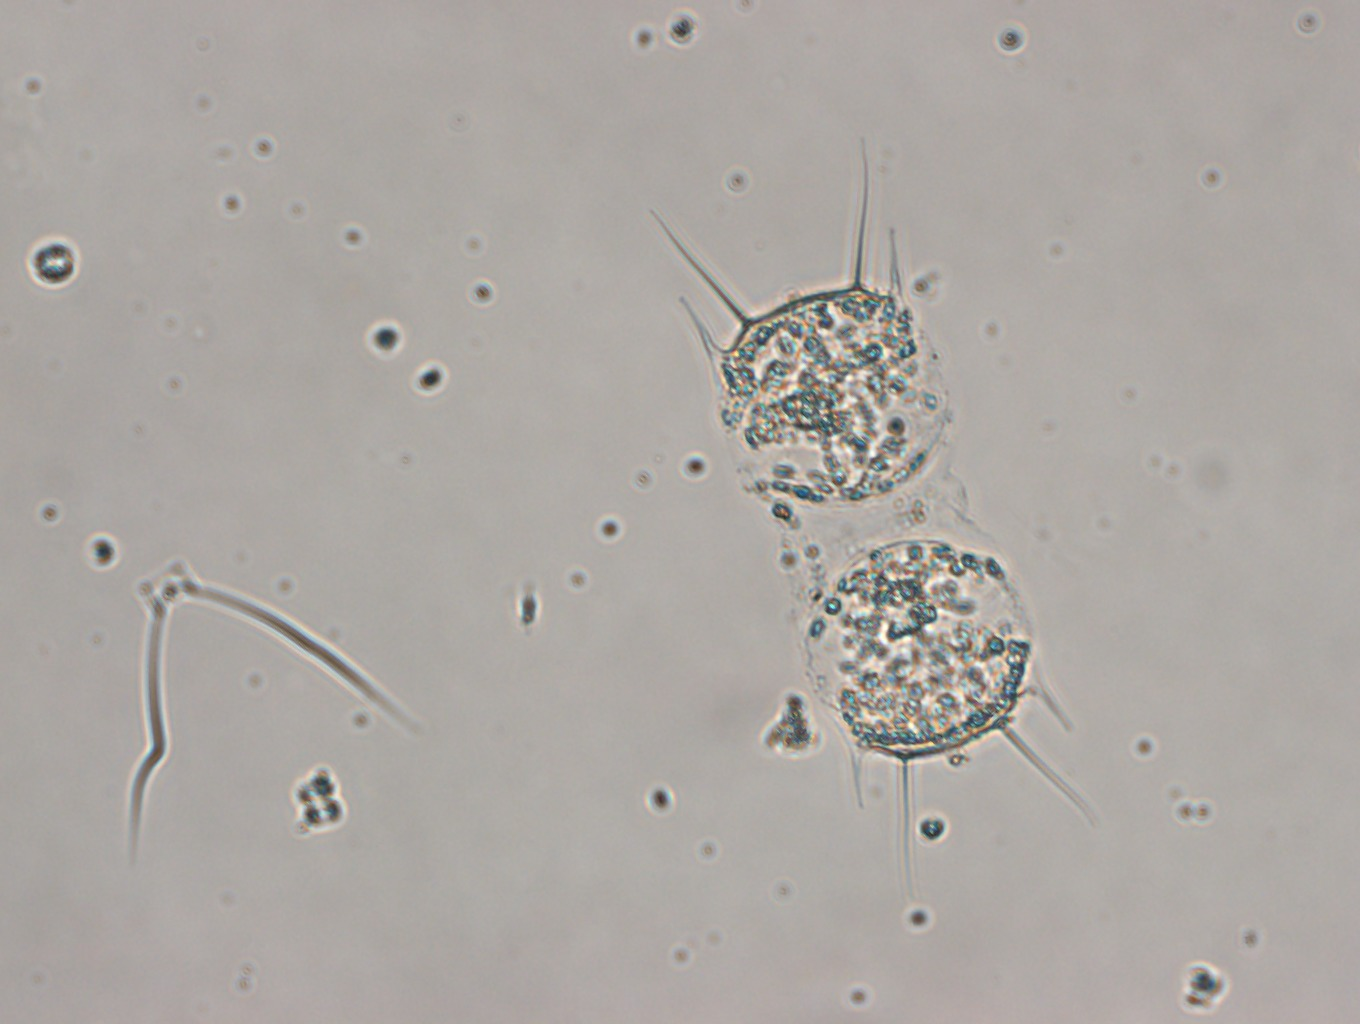biddulphia: (648, 137, 1097, 905)
